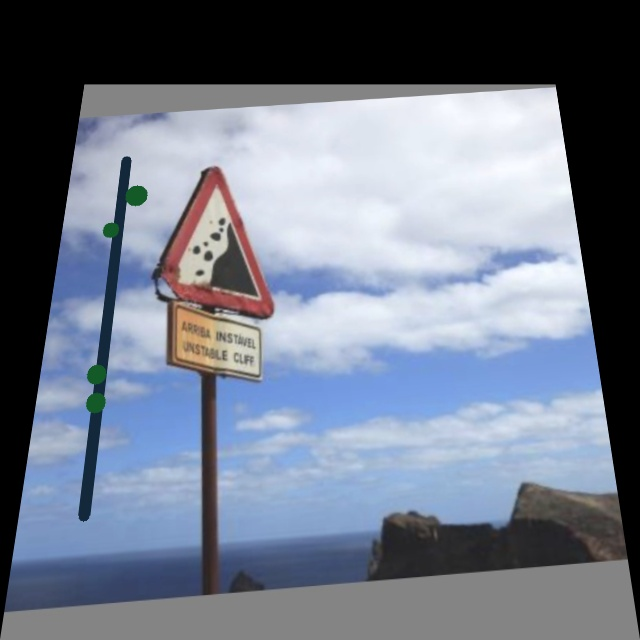Falling_Rocks: (142, 160, 278, 316)
